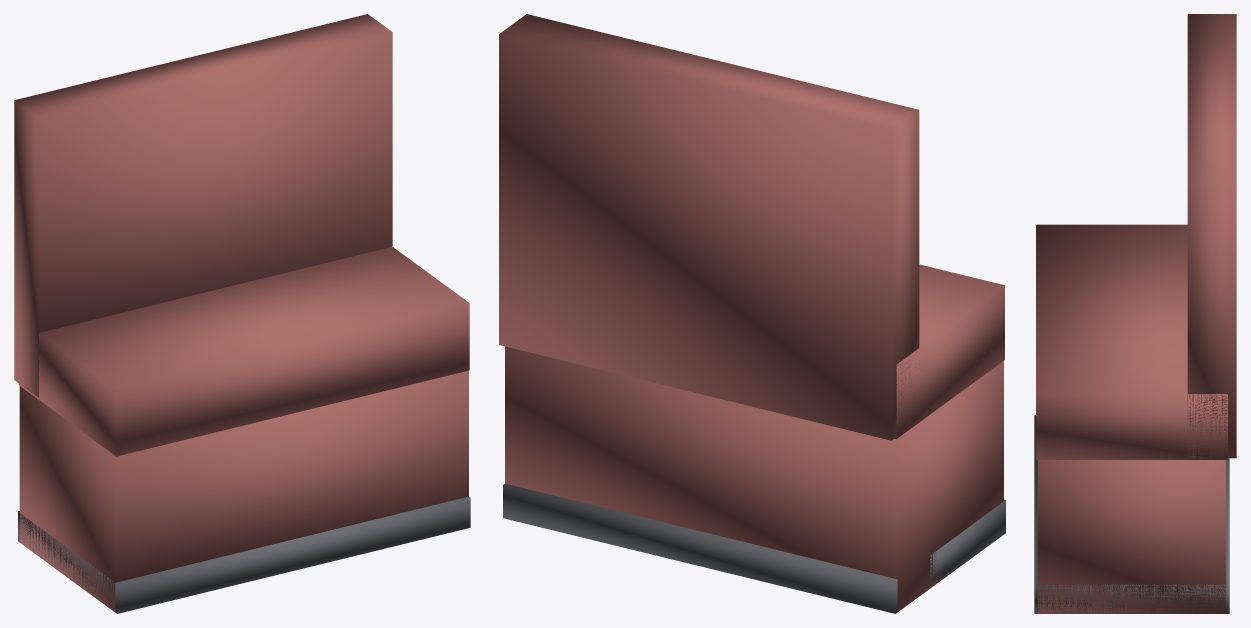
Rendered from diner_booth_single__tall.glb.
3 views of the same model, side by side, from view 1: azimuth 30°, elevation 25°; view 2: azimuth 150°, elevation 25°; view 3: azimuth 270°, elevation 25° (orthographic). The views are drawn at different scales.
Visible parts, largest first — view 1: world; view 2: world; view 3: world.
Part boxes in pixels (left/top/right/bottom): world: left=14, top=14, right=470, bottom=613; world: left=499, top=14, right=1005, bottom=613; world: left=1034, top=14, right=1236, bottom=613.
Bounding box in the file's own units: 1.15 × 1.36 × 0.58.
